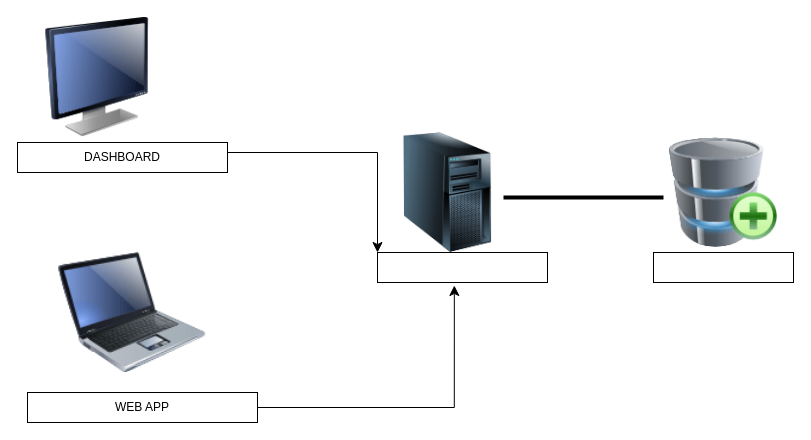
Some shapes in this 811 by 440 pixel diagram are drawn without their labels. Here are the shapes that lost their labels. From the top down, the box of each, then its label:
(376, 252, 548, 282): BACKEND (API)
(652, 252, 794, 282): MONGO DB
